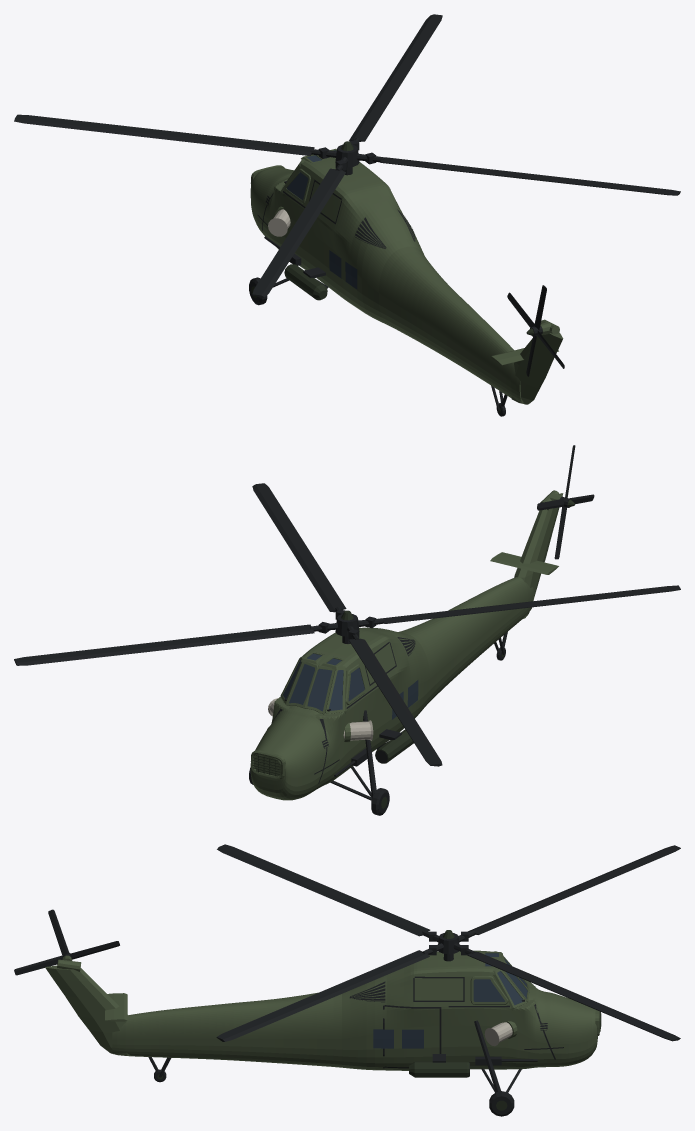
The model's file is wessex.glb.
The picture shows the model from 3 angles, top to bottom: view 1: azimuth 30°, elevation 25°; view 2: azimuth 150°, elevation 25°; view 3: azimuth 270°, elevation 25°; orthographic projection. The views are drawn at different scales.
Parts seen in each view (by area): view 1: Fuselage, Main Rotor, Tail Pylon, Tail Rotor, Cockpit Glass, Rocket Pods, Details; view 2: Fuselage, Main Rotor, Cockpit Glass, Window Frames, Tail Pylon, Landing Gear, Tail Rotor, Details, Nose Intake, Stabilizer, Exhausts; view 3: Fuselage, Main Rotor, Tail Pylon, Cockpit Glass, Details, Landing Gear, Tail Rotor, Window Frames, Rocket Pods, Exhausts, Stabilizer, Grilles.
Part boxes in pixels (x1=…): Fuselage: x1=250, y1=157, x2=524, y2=404; Main Rotor: x1=14, y1=14, x2=680, y2=297; Tail Pylon: x1=511, y1=332, x2=563, y2=404; Tail Rotor: x1=507, y1=285, x2=564, y2=376; Cockpit Glass: x1=286, y1=150, x2=357, y2=289; Rocket Pods: x1=284, y1=264, x2=327, y2=300; Details: x1=257, y1=179, x2=389, y2=288; Fuselage: x1=250, y1=577, x2=533, y2=800; Main Rotor: x1=14, y1=483, x2=680, y2=766; Cockpit Glass: x1=283, y1=653, x2=418, y2=719; Window Frames: x1=280, y1=652, x2=366, y2=714; Tail Pylon: x1=514, y1=493, x2=563, y2=619; Landing Gear: x1=249, y1=632, x2=507, y2=815; Tail Rotor: x1=537, y1=445, x2=594, y2=559; Details: x1=271, y1=642, x2=401, y2=783; Nose Intake: x1=250, y1=750, x2=285, y2=779; Stabilizer: x1=490, y1=552, x2=558, y2=574; Exhausts: x1=268, y1=698, x2=373, y2=742; Fuselage: x1=112, y1=950, x2=597, y2=1070; Main Rotor: x1=216, y1=844, x2=680, y2=1041; Tail Pylon: x1=45, y1=965, x2=130, y2=1055; Cockpit Glass: x1=373, y1=953, x2=527, y2=1048; Details: x1=383, y1=976, x2=563, y2=1068; Landing Gear: x1=148, y1=1020, x2=521, y2=1116; Tail Rotor: x1=14, y1=909, x2=119, y2=975; Window Frames: x1=470, y1=951, x2=529, y2=1010; Rocket Pods: x1=409, y1=1061, x2=469, y2=1077; Exhausts: x1=484, y1=1021, x2=517, y2=1046; Stabilizer: x1=105, y1=993, x2=127, y2=1021; Grilles: x1=349, y1=981, x2=547, y2=1030.
Size of the model in its own units: 12.29 by 5 by 17.65.
